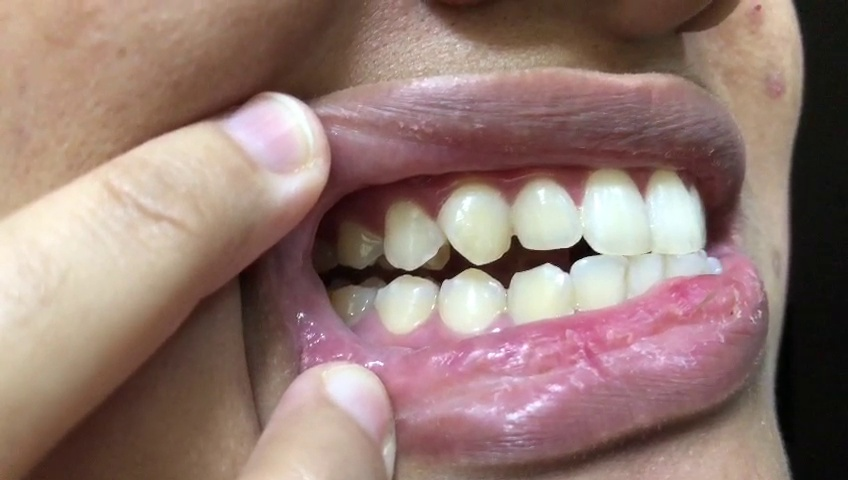1st Molar: (330, 278, 374, 330)
1st Premolar: (438, 267, 507, 337), (383, 197, 446, 270)
2nd Premolar: (375, 272, 436, 335), (337, 215, 382, 270)
Canine: (439, 182, 513, 265), (508, 262, 570, 324)
Central Incisor: (580, 169, 654, 255), (647, 165, 702, 254)
Lateral Incisor: (513, 177, 583, 251), (570, 254, 629, 313)
